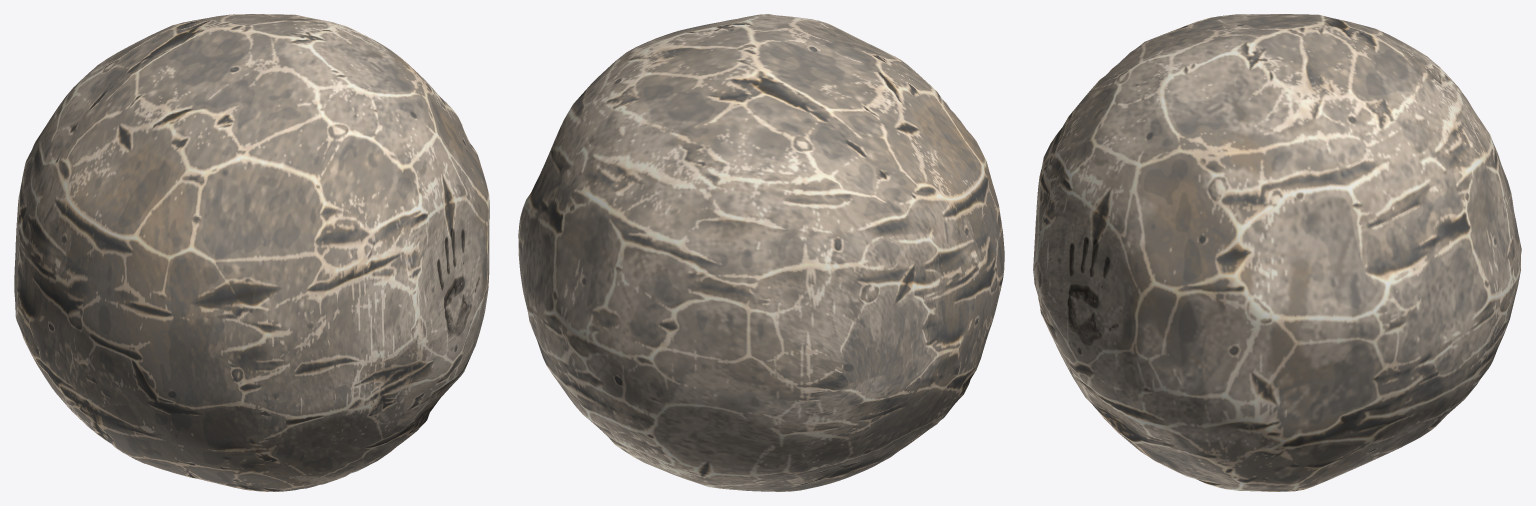
File: stone_ball.fbx
The picture shows the model from 3 angles, left to right: view 1: azimuth 30°, elevation 25°; view 2: azimuth 150°, elevation 25°; view 3: azimuth 270°, elevation 25°; orthographic projection.
Parts seen in each view (by area): view 1: Object_2; view 2: Object_2; view 3: Object_2.
Boxes of the visible parts, x1=… form: Object_2: x1=14, y1=14, x2=489, y2=491; Object_2: x1=518, y1=14, x2=1004, y2=491; Object_2: x1=1033, y1=14, x2=1521, y2=491.
Bounding box in the file's own units: 199 × 197 × 199.
Materials: 1 (1 with a texture image).
